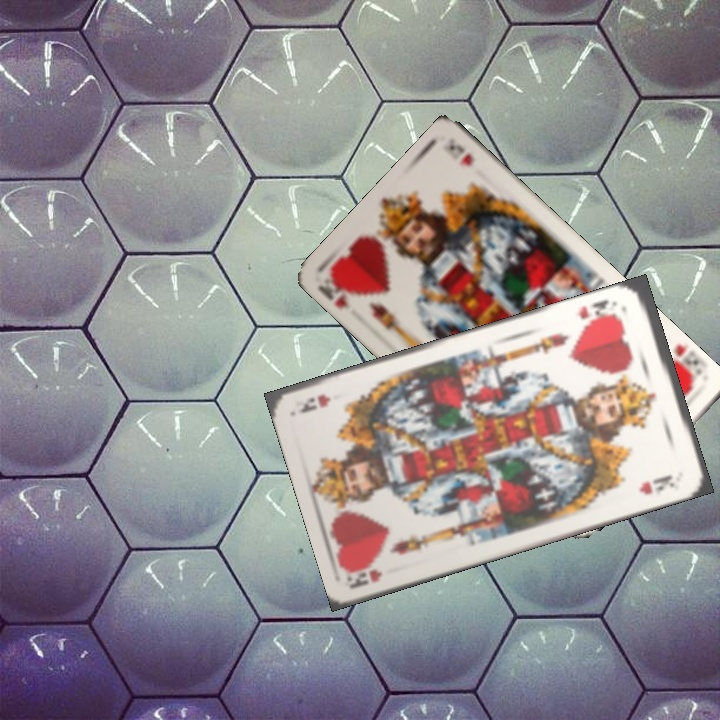HK: (314, 269, 362, 312), (662, 340, 705, 386), (574, 295, 620, 329), (346, 562, 385, 591)
